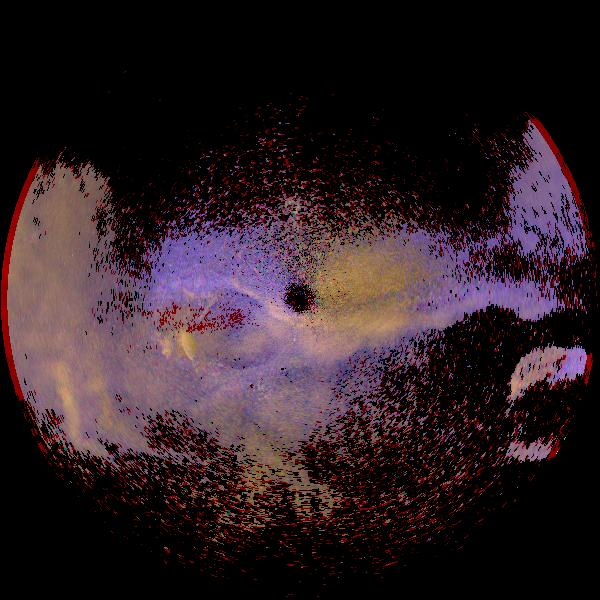roost: (102, 305, 219, 422)
